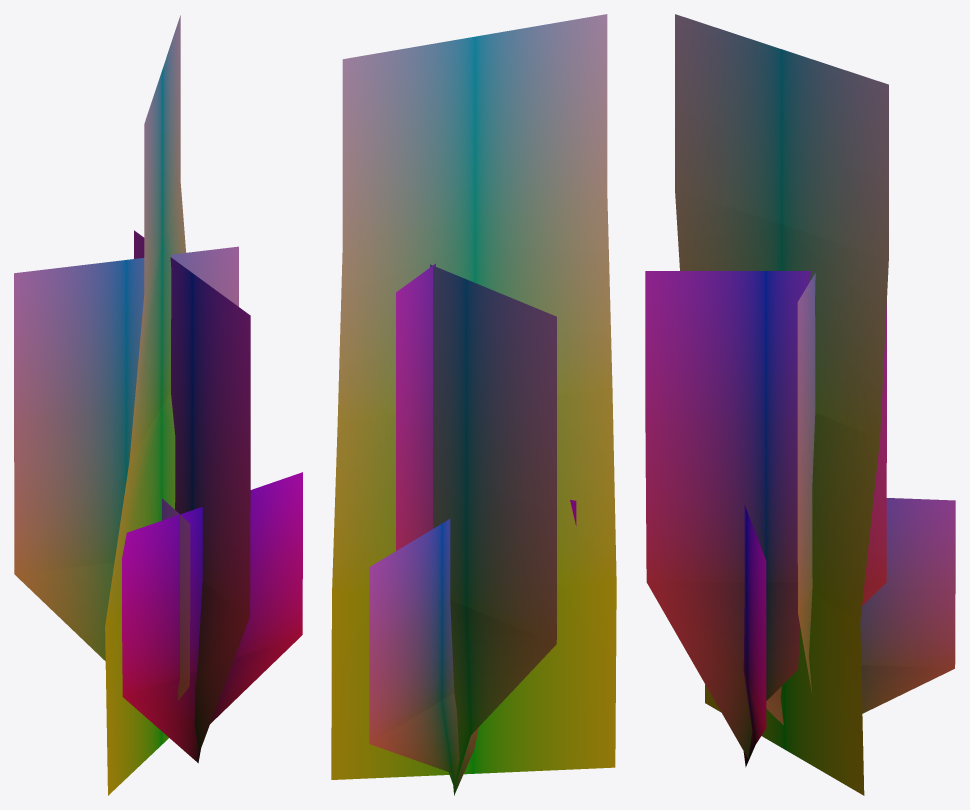
Rendered from fine_filbert_02_4.fbx.
The picture shows the model from 3 angles, left to right: view 1: azimuth 30°, elevation 25°; view 2: azimuth 150°, elevation 25°; view 3: azimuth 270°, elevation 25°; orthographic projection. The views are drawn at different scales.
Parts seen in each view (by area): view 1: fine_filbert_02_4_lod_0; view 2: fine_filbert_02_4_lod_0; view 3: fine_filbert_02_4_lod_0.
Boxes of the visible parts, <box> form: fine_filbert_02_4_lod_0: <box>14,15,302,795</box>; fine_filbert_02_4_lod_0: <box>331,14,616,795</box>; fine_filbert_02_4_lod_0: <box>645,14,955,795</box>.
Size of what is drawn, in the model's own units: 0.1691 by 0.1795 by 0.453.
